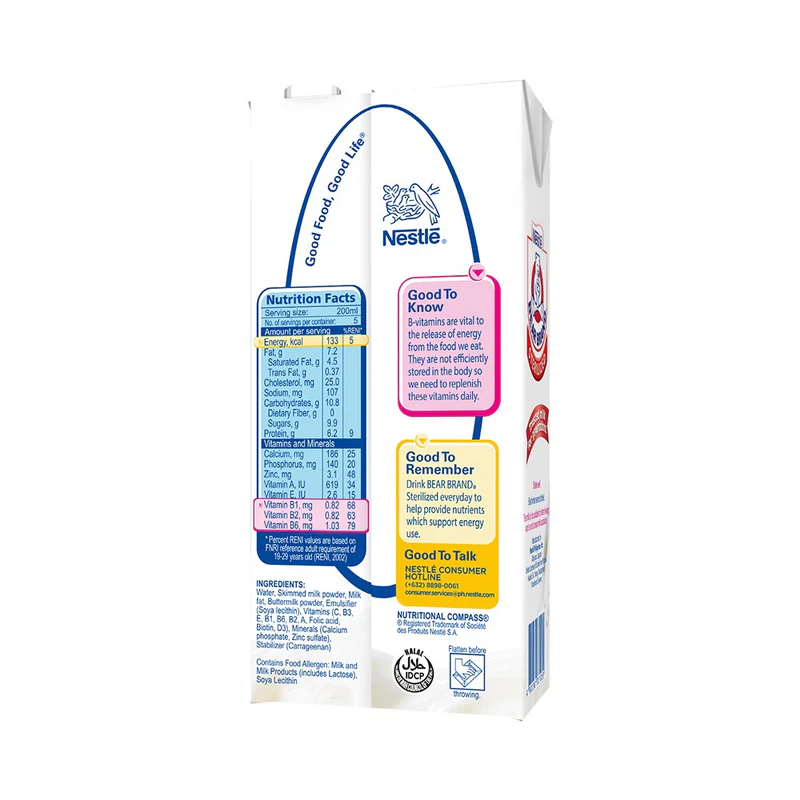non-toxic_waste: (250, 104, 552, 710)
